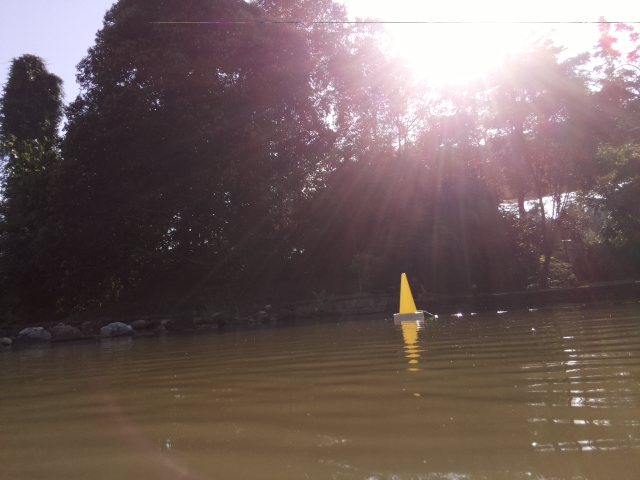checkpoint: (392, 271, 424, 320)
